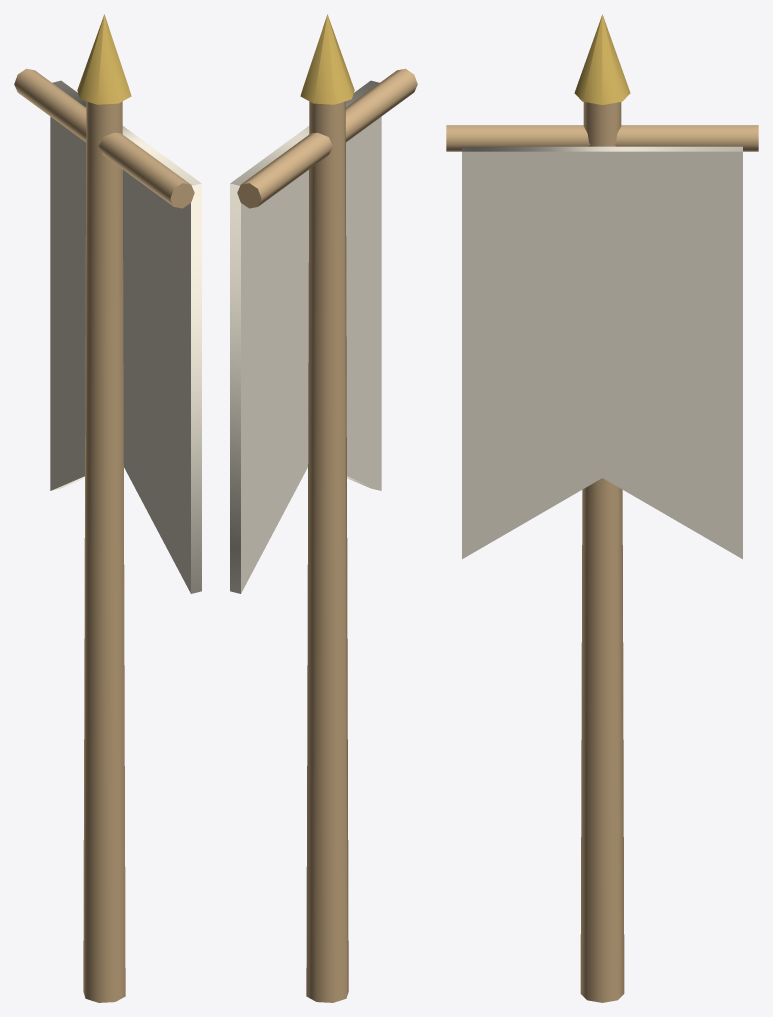
The model's file is banner_pole.fbx.
3 views of the same model, side by side, from view 1: azimuth 30°, elevation 25°; view 2: azimuth 150°, elevation 25°; view 3: azimuth 270°, elevation 25° (orthographic).
Parts seen in each view (by area): view 1: banner_pole; view 2: banner_pole; view 3: banner_pole.
Boxes of the visible parts, x1,y1,x2,y2 form: banner_pole: (14,14,201,1002); banner_pole: (230,14,417,1002); banner_pole: (446,14,758,1002).
Bounding box in the file's own units: 0.019 × 0.346 × 0.1.
